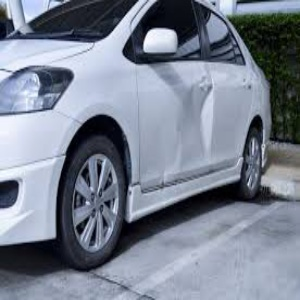door: (156, 73, 240, 168)
